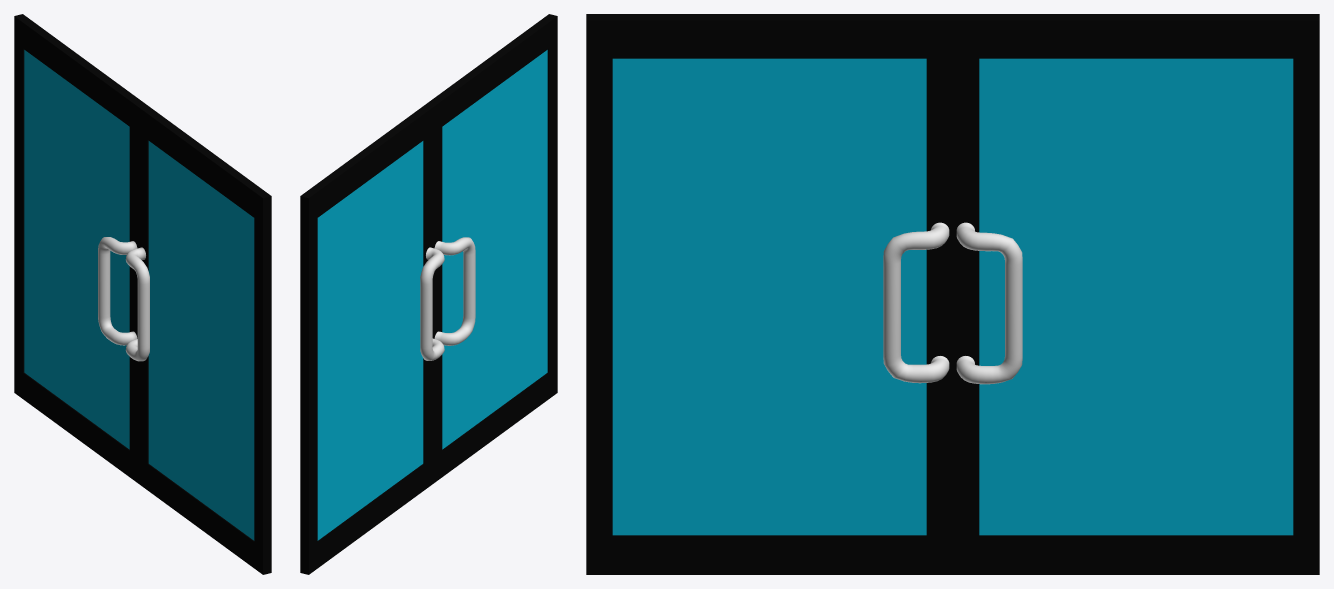
File: entrancedoor.fbx
The picture shows the model from 3 angles, left to right: view 1: azimuth 30°, elevation 25°; view 2: azimuth 150°, elevation 25°; view 3: azimuth 270°, elevation 25°; orthographic projection. The views are drawn at different scales.
Visible parts, largest first — view 1: door1, door2; view 2: door2, door1; view 3: door1, door2.
Boxes of the visible parts, x1,y1,x2,y2 form: door1: (125,105,271,574); door2: (14,14,146,483); door2: (300,105,444,574); door1: (425,14,557,483); door1: (586,14,952,574); door2: (953,14,1319,574).
Size of the model in its own units: 118 by 837 by 1003.
